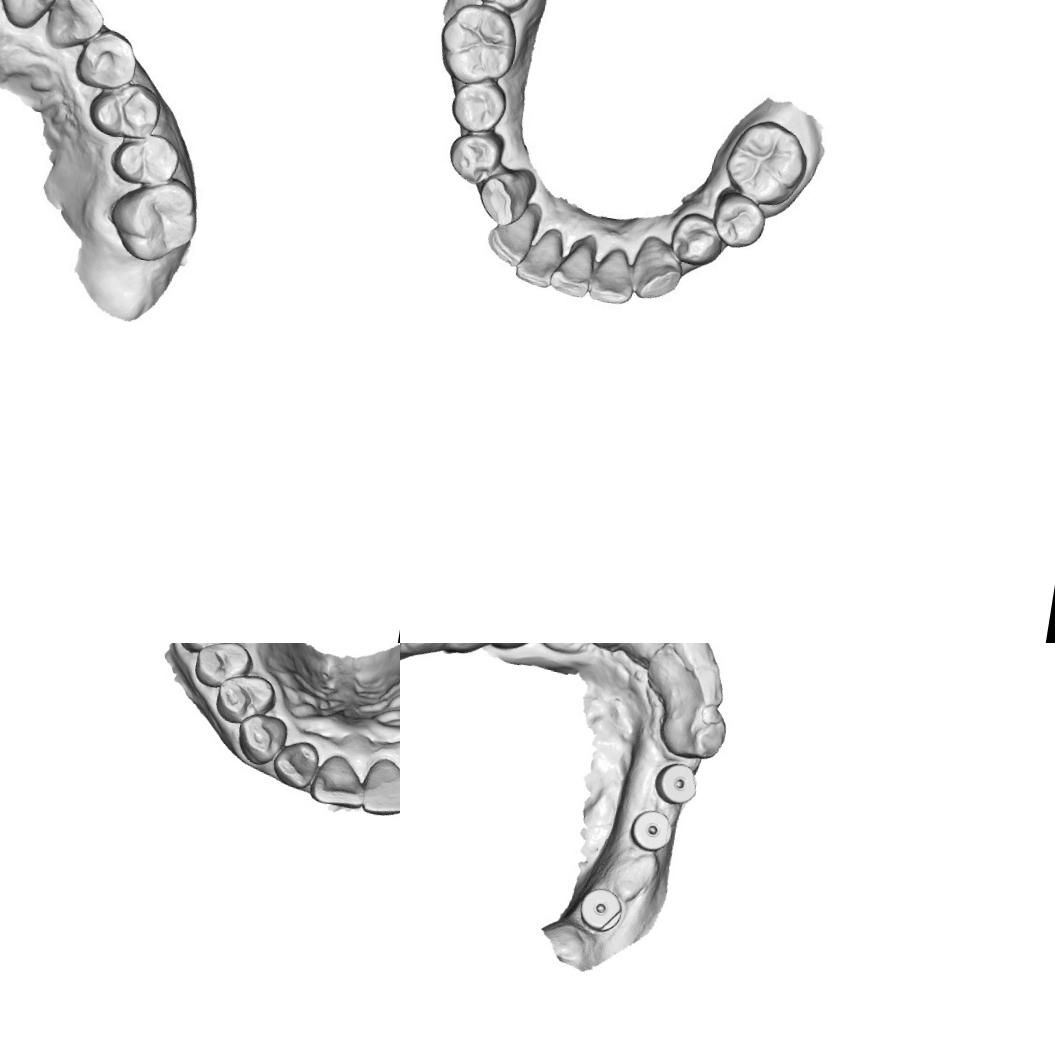canine: (70, 24, 142, 97), (654, 702, 730, 764), (472, 161, 539, 231), (627, 233, 686, 304), (232, 710, 290, 769)
implant: (574, 882, 626, 934), (627, 803, 676, 856), (652, 759, 702, 808)
incisor: (660, 653, 730, 718), (37, 0, 109, 58), (482, 204, 542, 270), (306, 751, 369, 810), (585, 246, 643, 308), (546, 235, 599, 302), (511, 228, 568, 290), (649, 643, 720, 687), (269, 737, 322, 791), (359, 755, 400, 821), (0, 0, 66, 38), (623, 643, 691, 665)
molar: (103, 170, 206, 272), (718, 114, 814, 213), (432, 0, 527, 92), (173, 643, 259, 662)
premolar: (89, 75, 165, 146), (108, 128, 185, 196), (706, 188, 770, 252), (212, 670, 278, 730), (445, 127, 509, 186), (448, 77, 510, 137), (668, 209, 728, 270), (191, 643, 256, 693)
